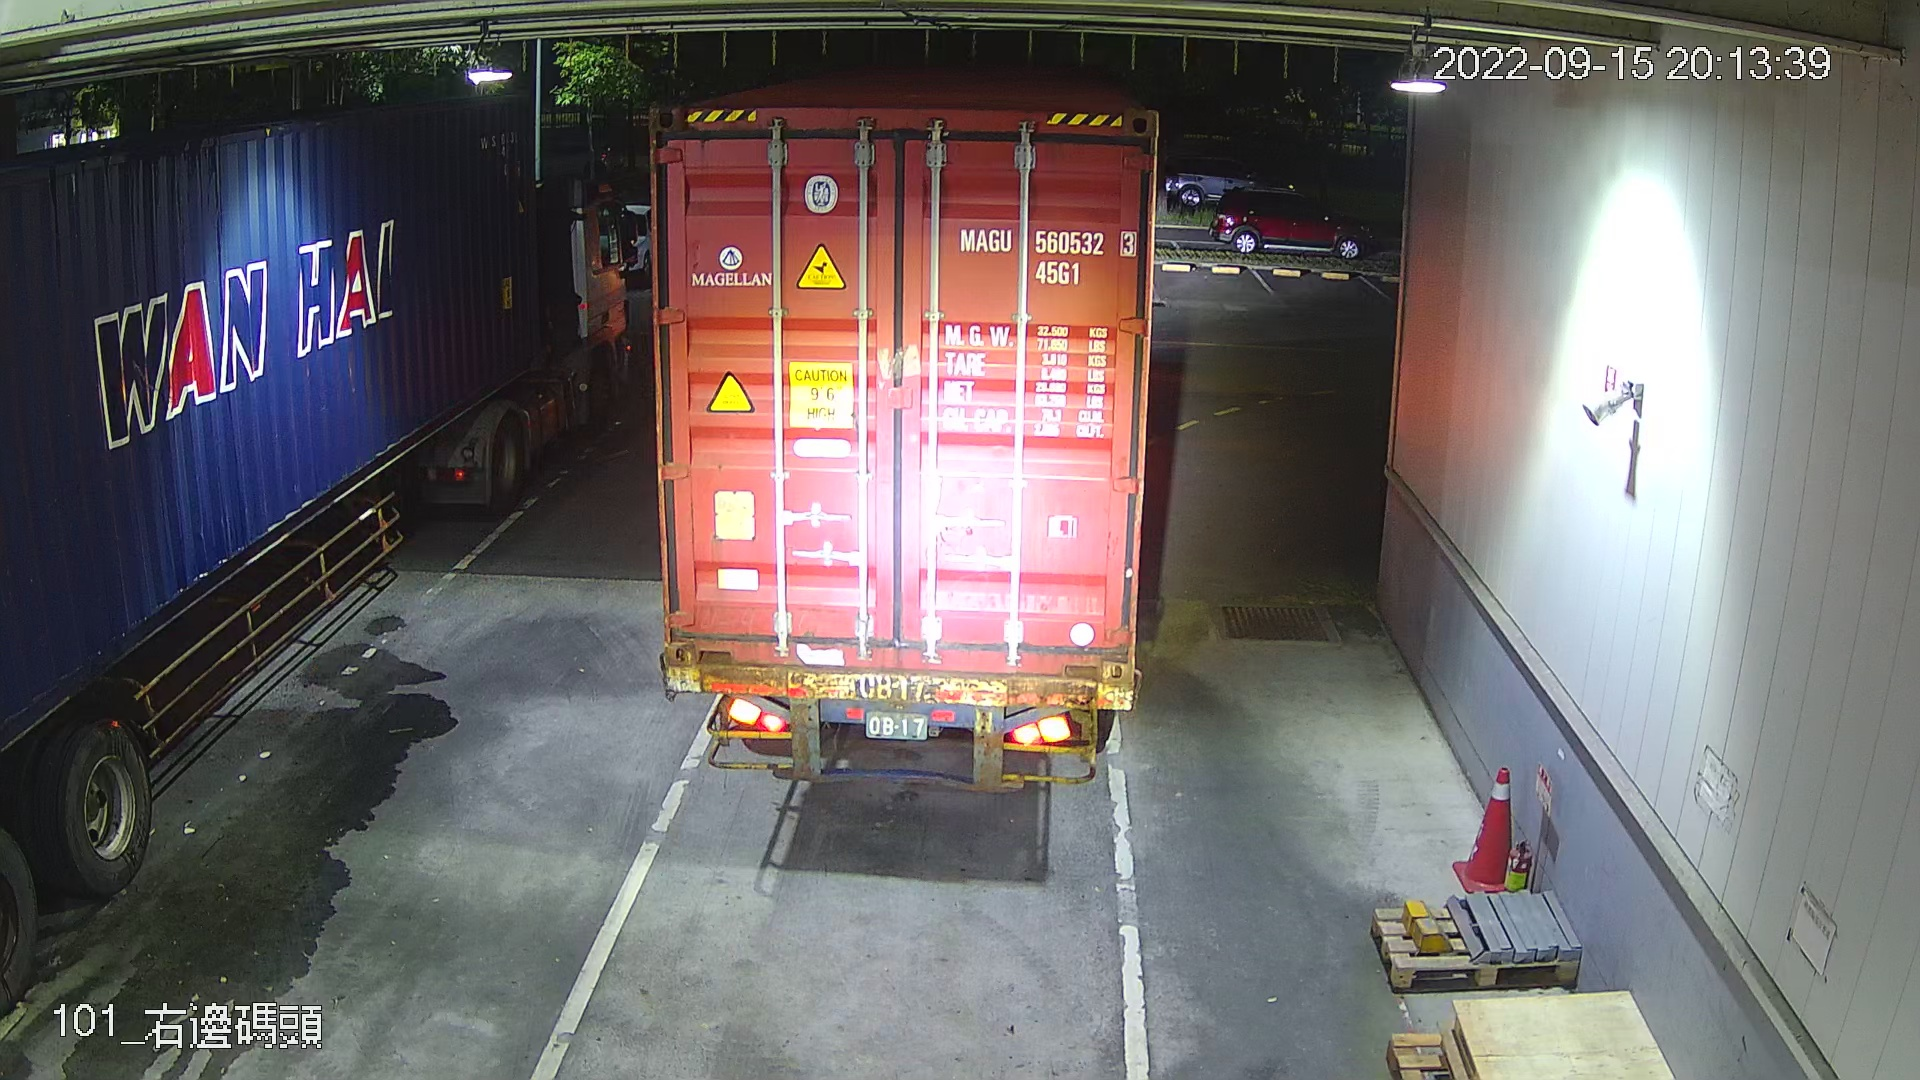container: (942, 218, 1145, 297)
